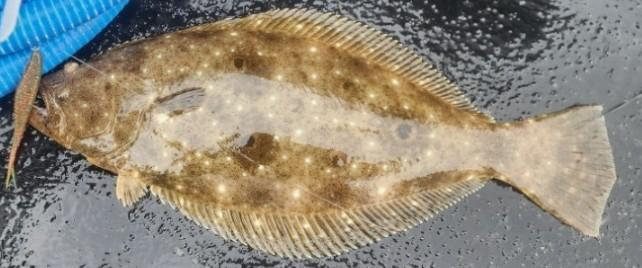fish: (23, 7, 617, 259)
